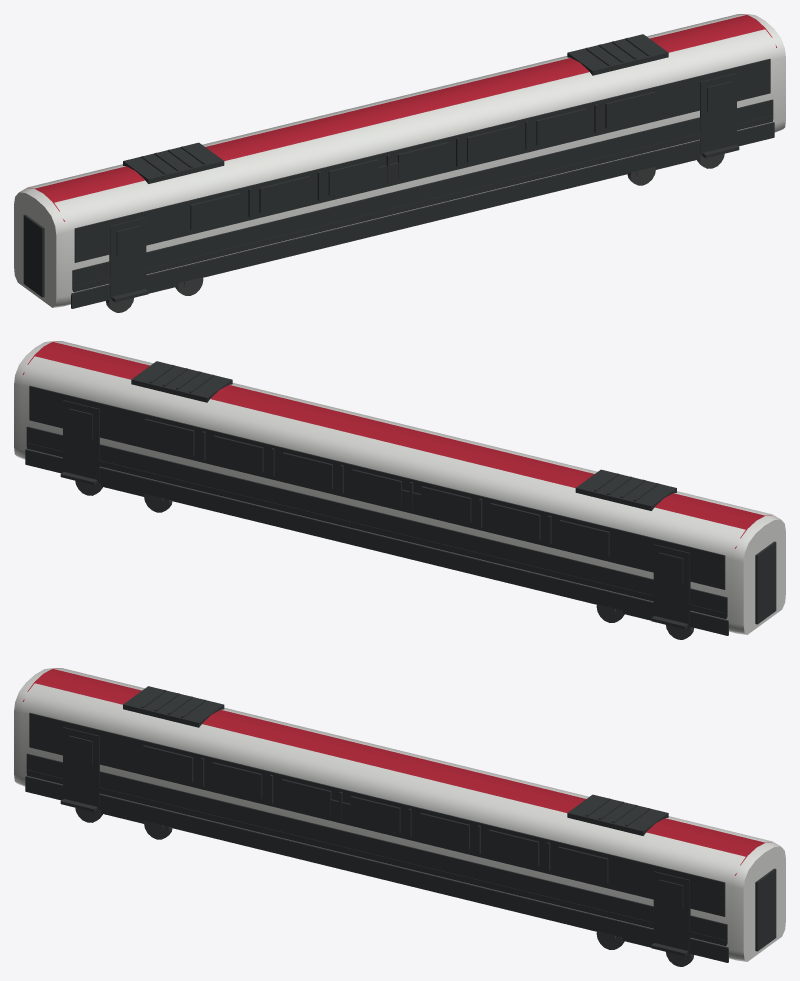
The model's file is railjet-nextgen-restaurant.glb.
The picture shows the model from 3 angles, top to bottom: view 1: azimuth 30°, elevation 25°; view 2: azimuth 150°, elevation 25°; view 3: azimuth 330°, elevation 25°; orthographic projection.
Parts seen in each view (by area): view 1: restaurant_lofted_body, restaurant_black_window_ribbon_-1, restaurant_red_roof, restaurant_silver_flank_-1, restaurant_dark_skirt_-1, restaurant_red_sill_-1, restaurant_wide_door_-1_1, restaurant_wide_door_-1_0, restaurant_hvac_1, restaurant_hvac_0, gangway_1.002, restaurant_window_-1_1 (+12 smaller); view 2: restaurant_lofted_body, restaurant_black_window_ribbon_1, restaurant_red_roof, restaurant_silver_flank_1, restaurant_dark_skirt_1, restaurant_red_sill_1, restaurant_wide_door_1_1, restaurant_wide_door_1_0, restaurant_hvac_1, restaurant_hvac_0, gangway_1.002, restaurant_window_1_1 (+12 smaller); view 3: restaurant_lofted_body, restaurant_black_window_ribbon_-1, restaurant_red_roof, restaurant_silver_flank_-1, restaurant_dark_skirt_-1, restaurant_red_sill_-1, restaurant_wide_door_-1_0, restaurant_wide_door_-1_1, restaurant_hvac_0, restaurant_hvac_1, gangway_0.002, restaurant_window_-1_1 (+12 smaller).
Boxes of the visible parts, x1=… form: restaurant_lofted_body: x1=14, y1=14, x2=785, y2=307; restaurant_black_window_ribbon_-1: x1=74, y1=59, x2=770, y2=262; restaurant_red_roof: x1=28, y1=14, x2=776, y2=221; restaurant_silver_flank_-1: x1=72, y1=99, x2=773, y2=290; restaurant_dark_skirt_-1: x1=71, y1=122, x2=774, y2=308; restaurant_red_sill_-1: x1=73, y1=116, x2=772, y2=292; restaurant_wide_door_-1_1: x1=700, y1=73, x2=736, y2=153; restaurant_wide_door_-1_0: x1=109, y1=217, x2=146, y2=297; restaurant_hvac_1: x1=567, y1=34, x2=668, y2=75; restaurant_hvac_0: x1=123, y1=142, x2=224, y2=183; gangway_1.002: x1=23, y1=214, x2=44, y2=297; restaurant_window_-1_1: x1=259, y1=176, x2=309, y2=212; restaurant_lofted_body: x1=14, y1=341, x2=785, y2=634; restaurant_black_window_ribbon_1: x1=29, y1=386, x2=725, y2=589; restaurant_red_roof: x1=23, y1=341, x2=771, y2=548; restaurant_silver_flank_1: x1=26, y1=426, x2=727, y2=617; restaurant_dark_skirt_1: x1=25, y1=449, x2=728, y2=635; restaurant_red_sill_1: x1=27, y1=443, x2=726, y2=619; restaurant_wide_door_1_1: x1=63, y1=400, x2=99, y2=480; restaurant_wide_door_1_0: x1=653, y1=544, x2=690, y2=624; restaurant_hvac_1: x1=131, y1=361, x2=232, y2=402; restaurant_hvac_0: x1=575, y1=469, x2=676, y2=510; gangway_1.002: x1=755, y1=541, x2=776, y2=624; restaurant_window_1_1: x1=490, y1=503, x2=540, y2=539; restaurant_lofted_body: x1=14, y1=668, x2=785, y2=961; restaurant_black_window_ribbon_-1: x1=29, y1=713, x2=725, y2=916; restaurant_red_roof: x1=23, y1=668, x2=771, y2=875; restaurant_silver_flank_-1: x1=26, y1=753, x2=727, y2=944; restaurant_dark_skirt_-1: x1=25, y1=776, x2=728, y2=962; restaurant_red_sill_-1: x1=27, y1=770, x2=726, y2=946; restaurant_wide_door_-1_0: x1=63, y1=727, x2=99, y2=807; restaurant_wide_door_-1_1: x1=653, y1=871, x2=690, y2=951; restaurant_hvac_0: x1=123, y1=686, x2=224, y2=727; restaurant_hvac_1: x1=567, y1=794, x2=668, y2=835; gangway_0.002: x1=755, y1=868, x2=776, y2=951; restaurant_window_-1_1: x1=212, y1=762, x2=262, y2=798.
Size of the model in its own units: 26.6 by 4.29 by 3.42.
